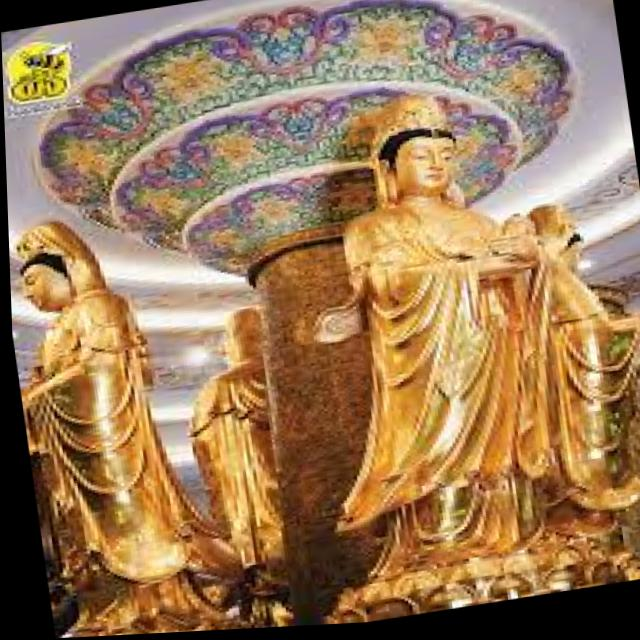Guan Yin: (322, 83, 559, 482), (6, 210, 161, 496)
